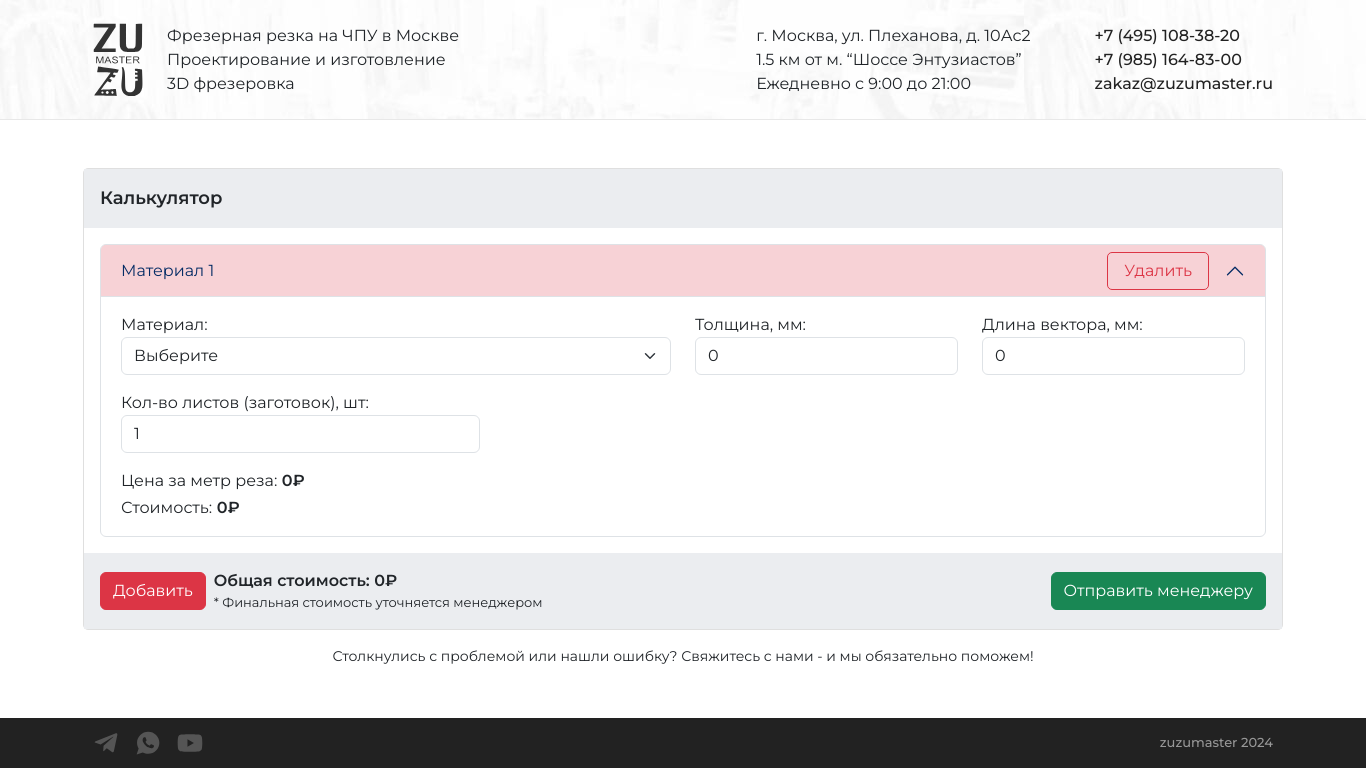
Test: sending info to manager › open send-to-manager window
Expected: the text "Калькулятор" is shown, x1=84 y1=169 x2=1282 y2=228
Step 1. Select "ДСП" in the dropdown → [396, 356], box x1=121 y1=337 x2=671 y2=375
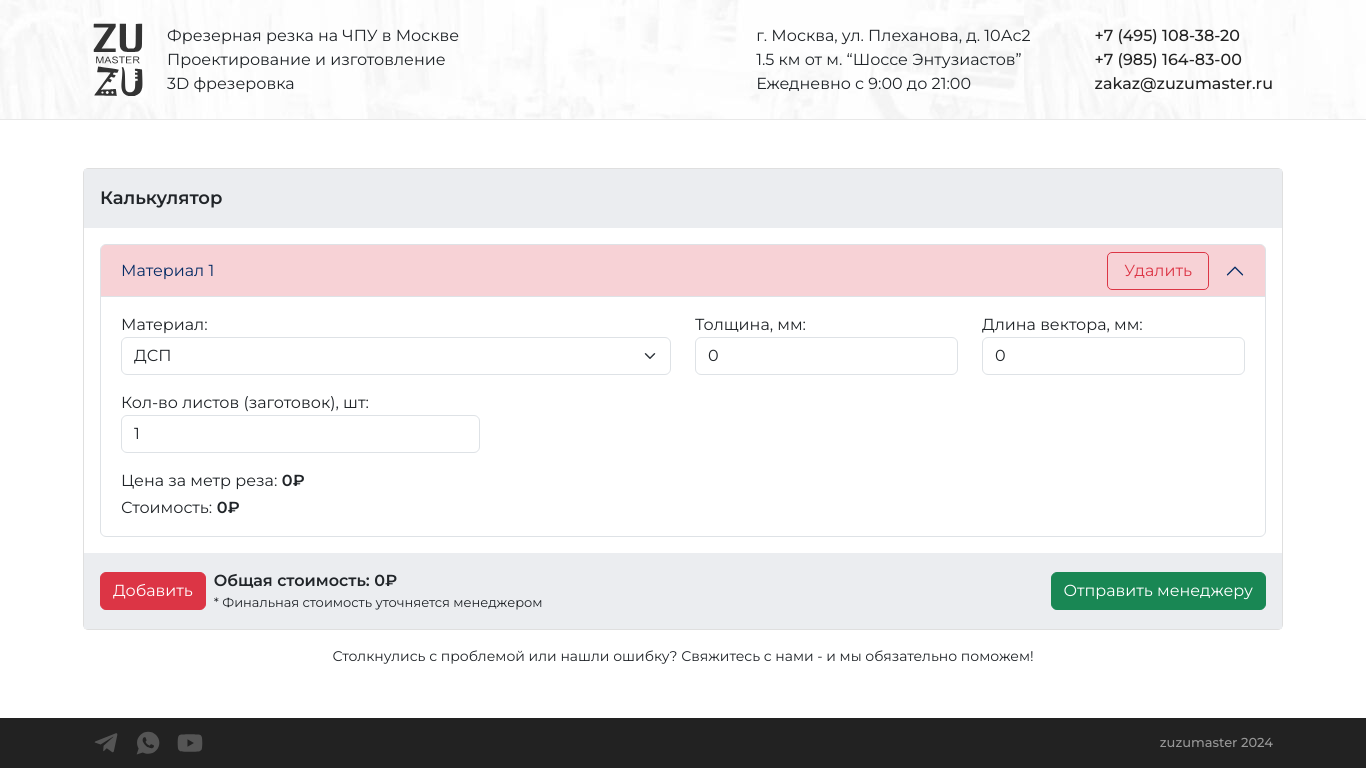
Step 2. Replace the text in the number field with class "thickness-input" with "1" → [826, 356], box x1=695 y1=337 x2=958 y2=375
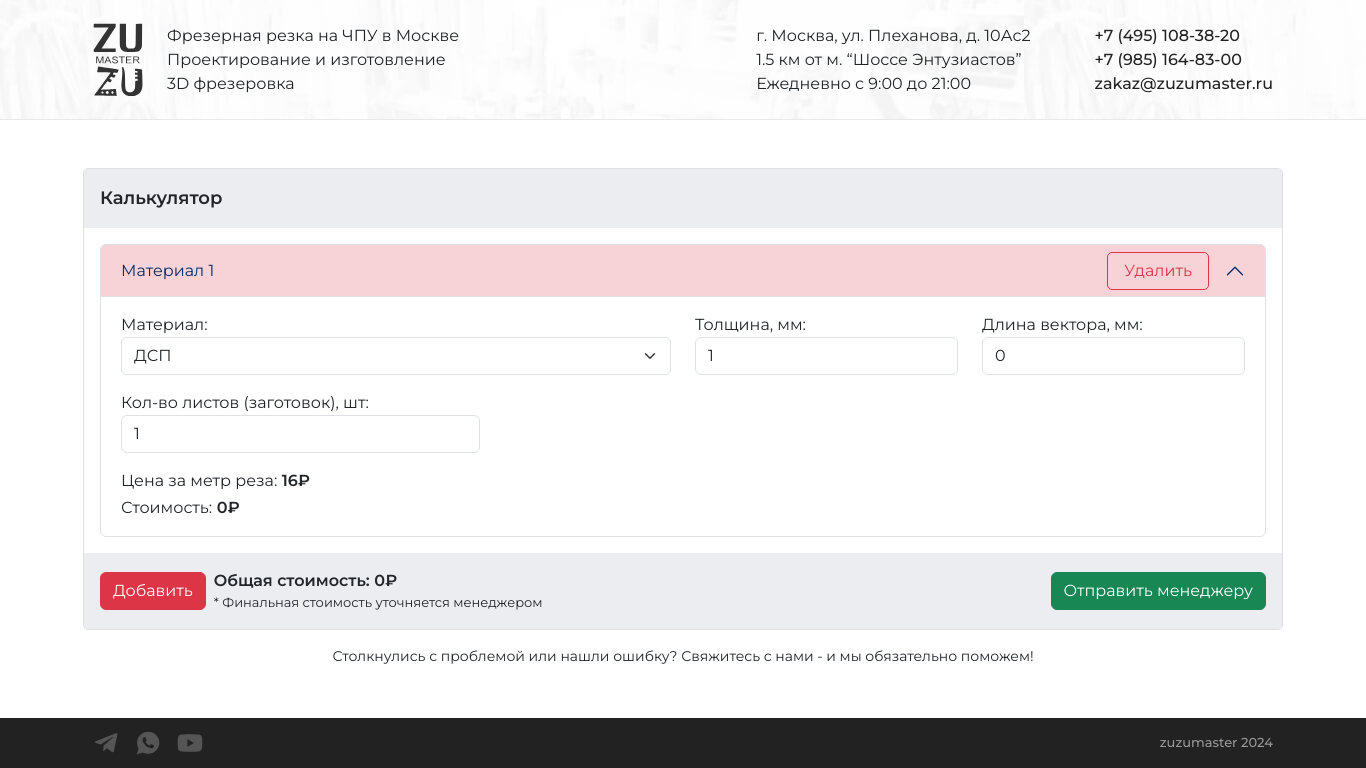
Step 3. Replace the text in the number field with class "length-input" with "100" → [1114, 356], box x1=982 y1=337 x2=1245 y2=375
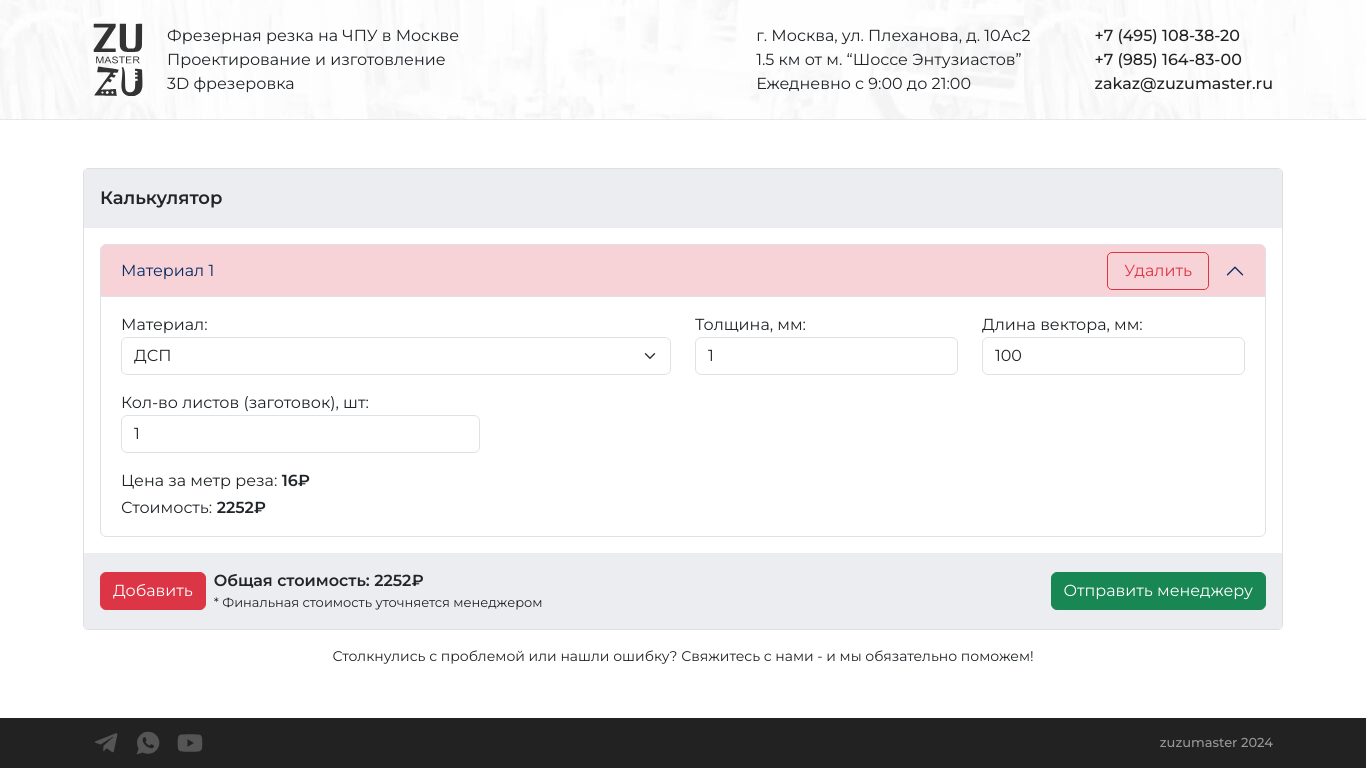
Step 4. Click the button with class "send-to-manager-btn" → [1158, 591], box x1=1050 y1=572 x2=1266 y2=610
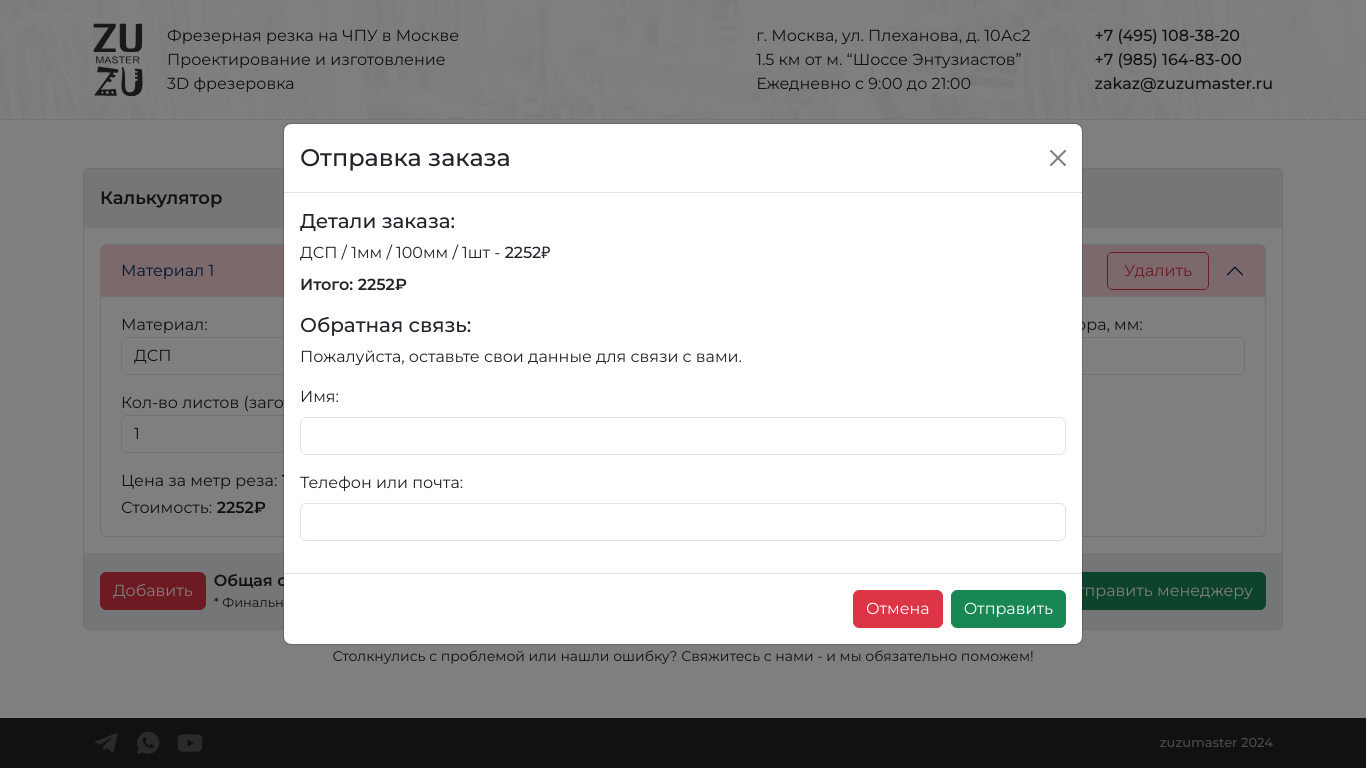
Expected: the dialog with class "details-modal" is shown, x1=283 y1=123 x2=1083 y2=645
